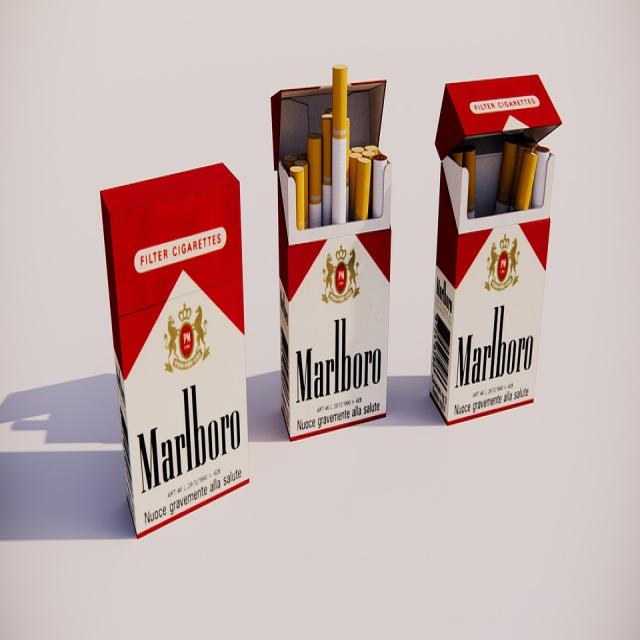marlboro: (98, 147, 254, 535), (427, 72, 565, 429), (270, 62, 391, 456)
